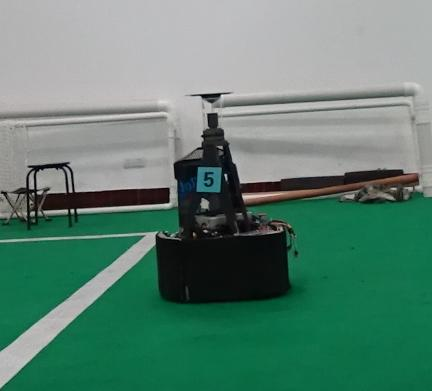robot: (152, 90, 296, 306)
